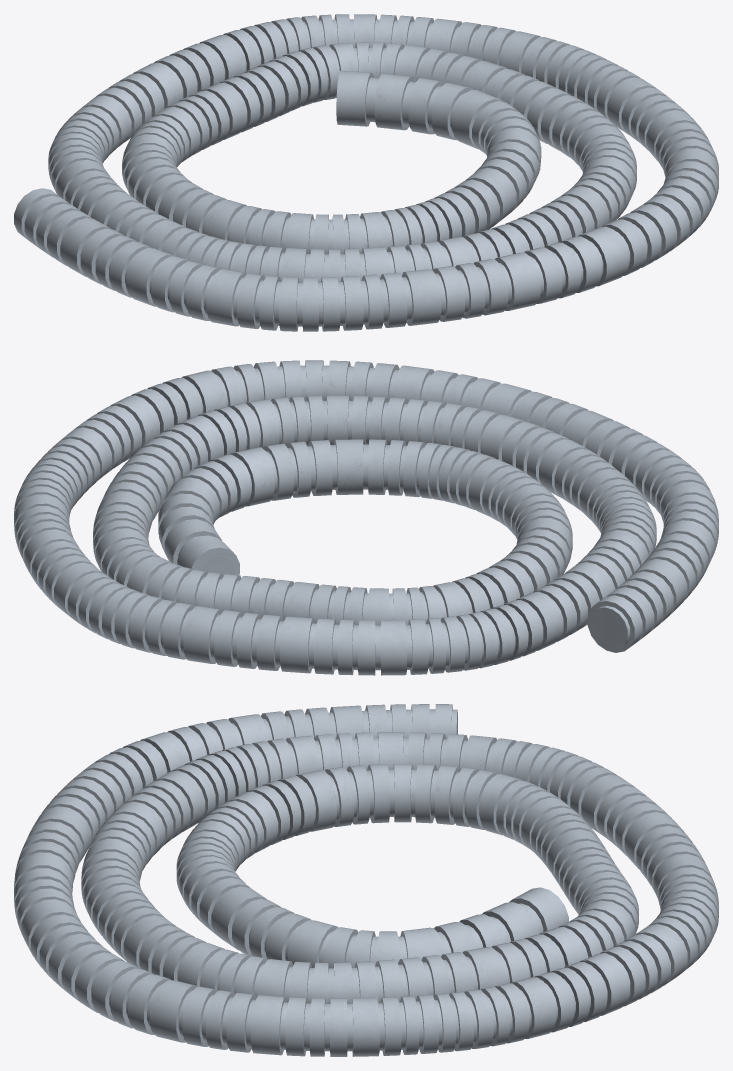
The model's file is SM_Cable_1_Splines_29.fbx.
The picture shows the model from 3 angles, top to bottom: view 1: azimuth 30°, elevation 25°; view 2: azimuth 150°, elevation 25°; view 3: azimuth 270°, elevation 25°; orthographic projection. The views are drawn at different scales.
Visible parts, largest first — view 1: SM_Cable_1_Splines_29; view 2: SM_Cable_1_Splines_29; view 3: SM_Cable_1_Splines_29.
Part boxes in pixels (<box>): SM_Cable_1_Splines_29: <box>14,14,718,331</box>; SM_Cable_1_Splines_29: <box>14,360,718,675</box>; SM_Cable_1_Splines_29: <box>14,704,718,1056</box>.
Bounding box in the file's own units: 73.56 × 68.74 × 5.66.
